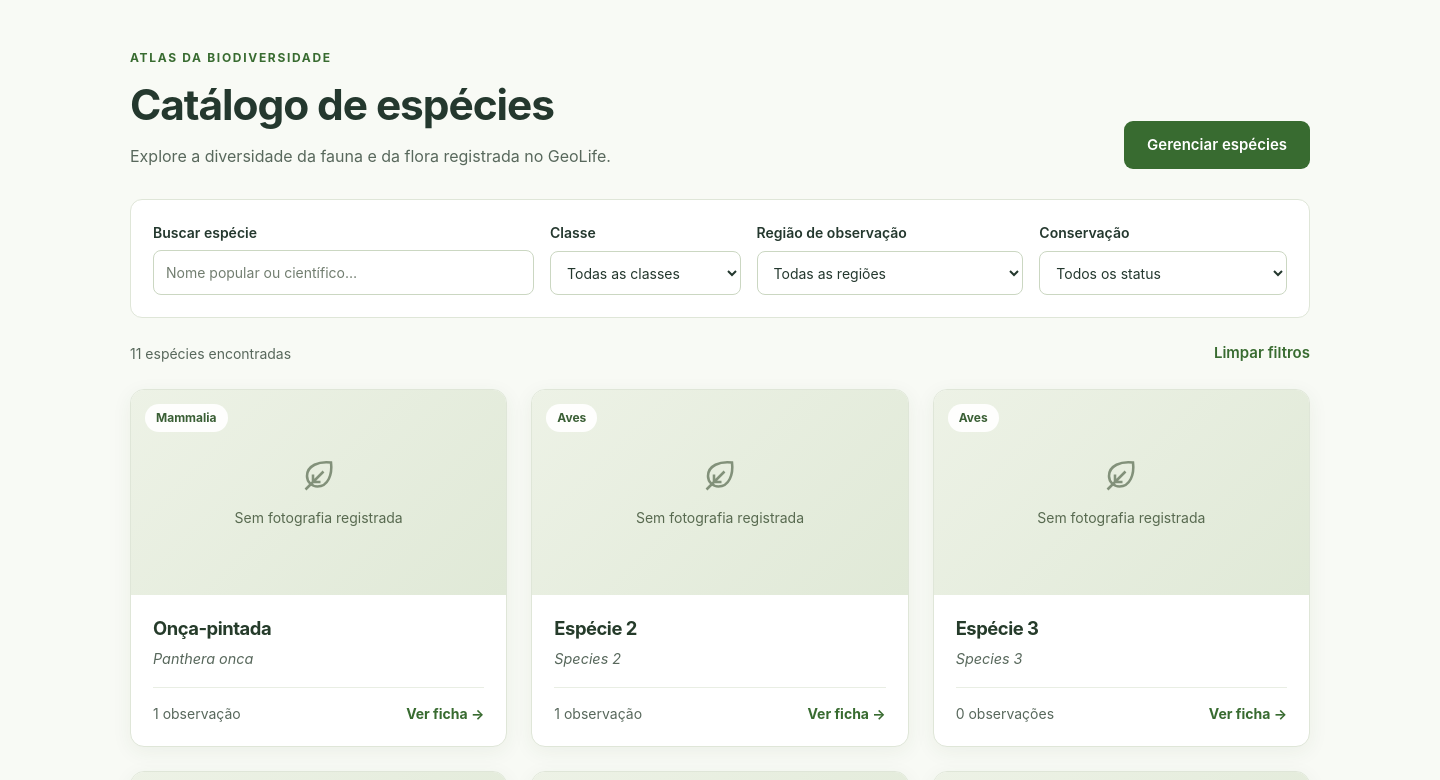
Scenario: Atlas integrado › combina classe, conservação e região pelas observações
The width and height of the screenshot is (1440, 780).
expect the text "11 espécies encontradas" is shown: met, box x1=130 y1=342 x2=291 y2=365
Select "Mammalia" in the dropdown labelled "Classe" at (645, 273), box x1=550 y1=251 x2=740 y2=295
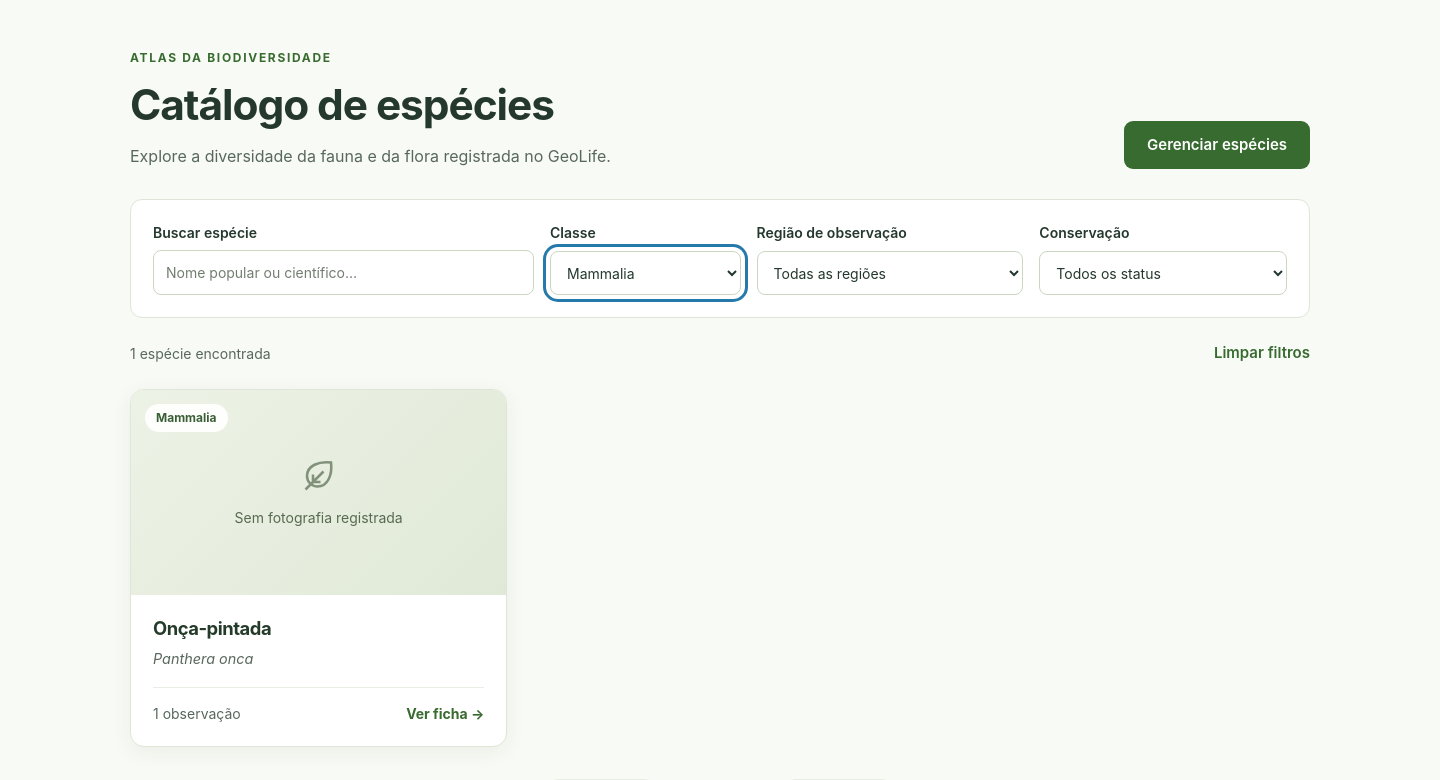
Select "Quase ameaçada" in the dropdown labelled "Conservação" at (1163, 273), box x1=1039 y1=251 x2=1287 y2=295
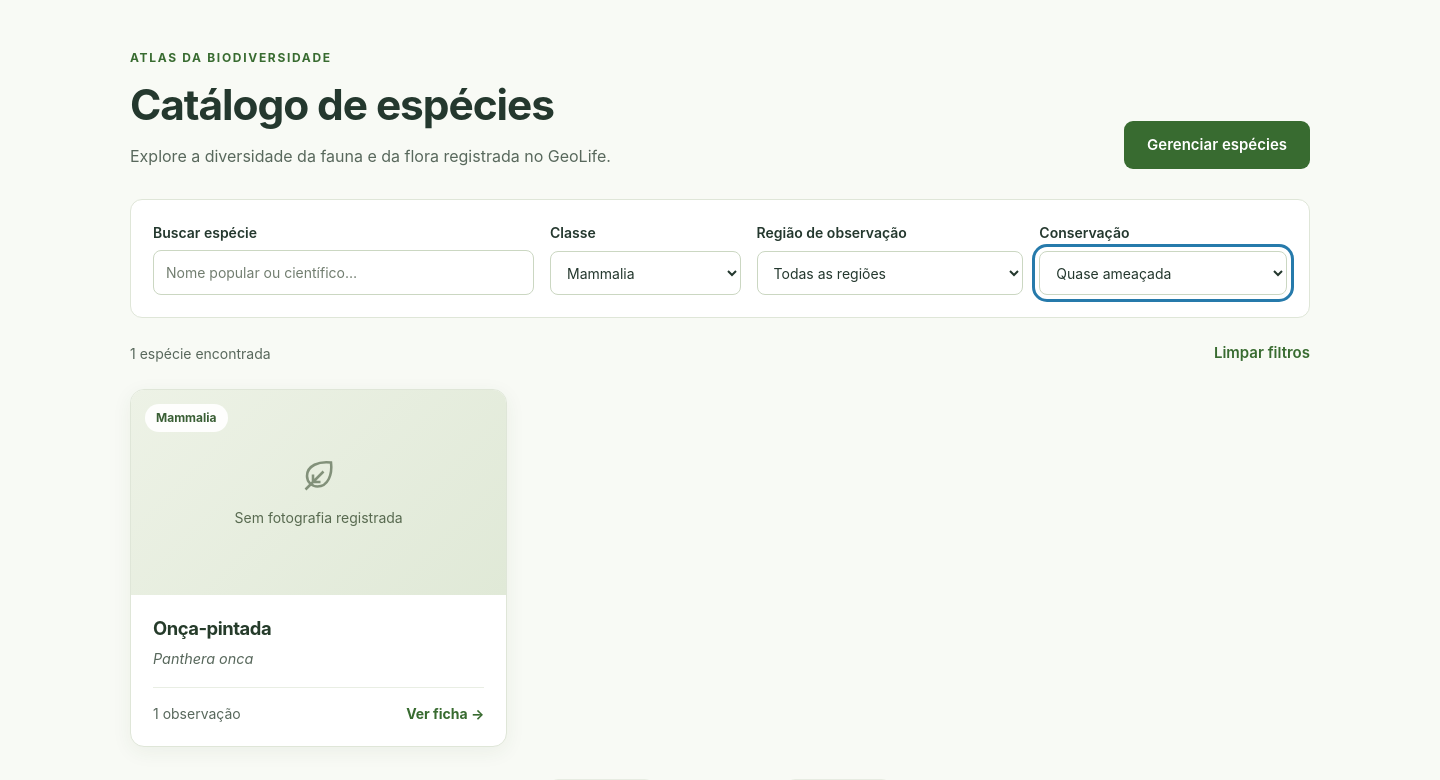
Select "Sem coordenadas" in the dropdown labelled "Região de observação" at (890, 273), box x1=757 y1=251 x2=1023 y2=295
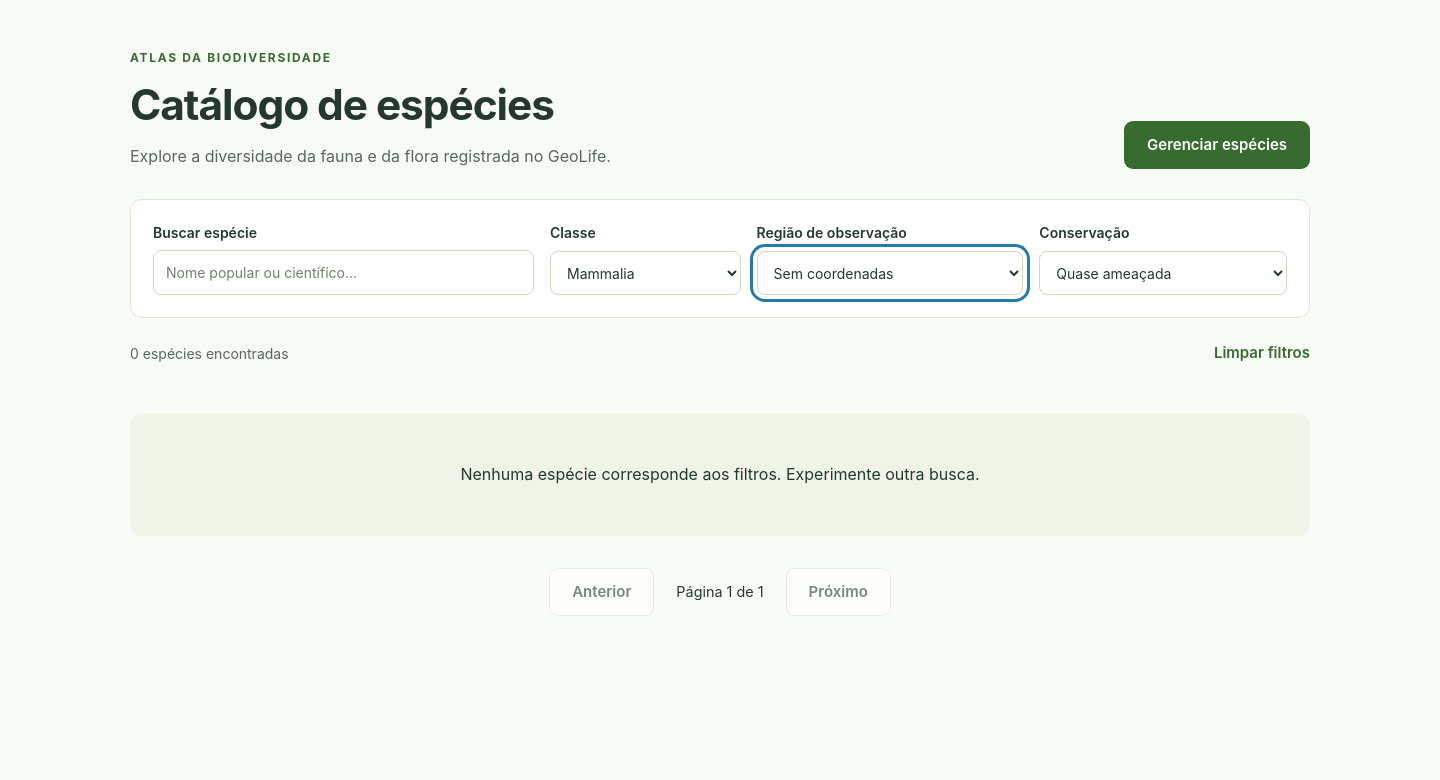
expect the text "Nenhuma espécie corresponde" is shown: met, box x1=460 y1=464 x2=980 y2=484
Click the button "Limpar filtros".
click(1262, 354)  # box x1=1214 y1=342 x2=1310 y2=365
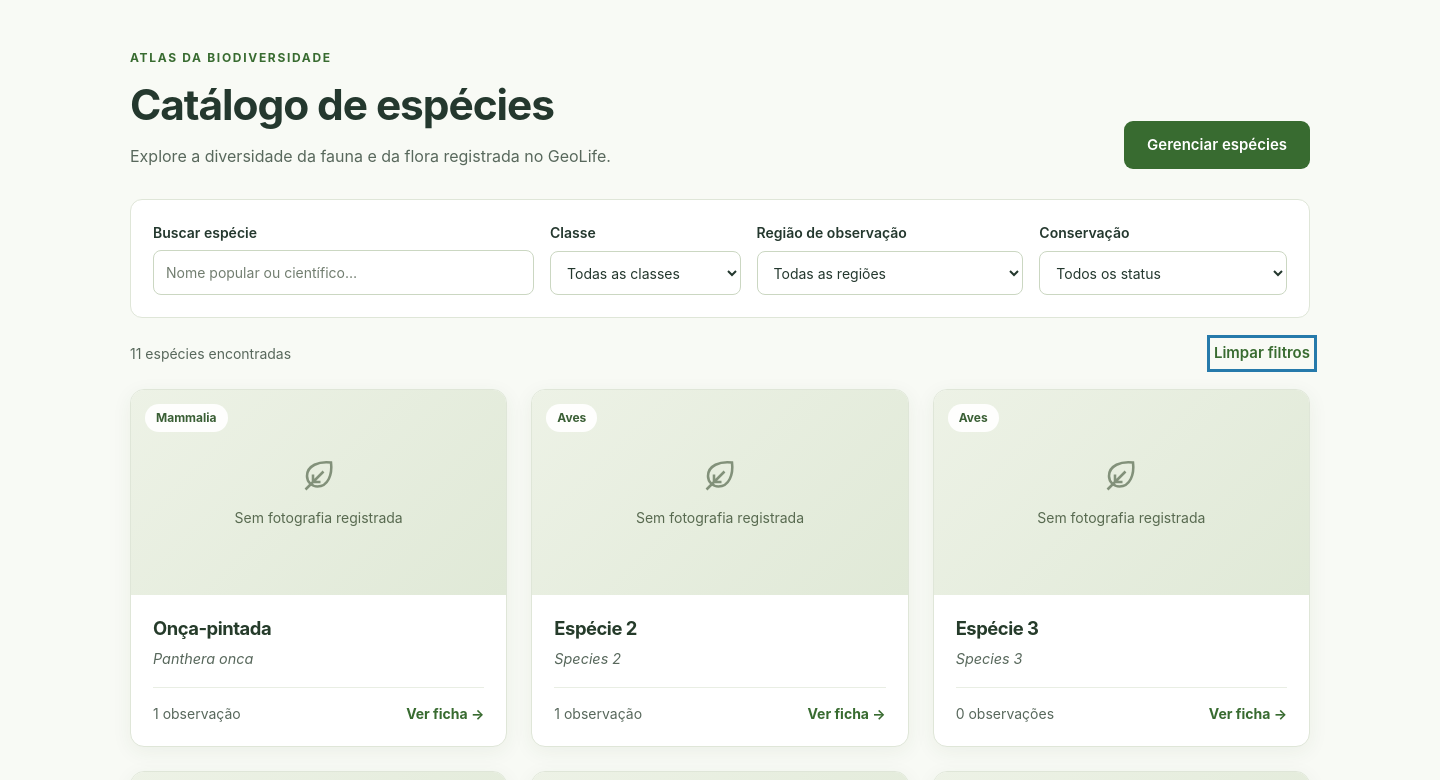
expect the text "11 espécies encontradas" is shown: met, box x1=130 y1=342 x2=291 y2=365
